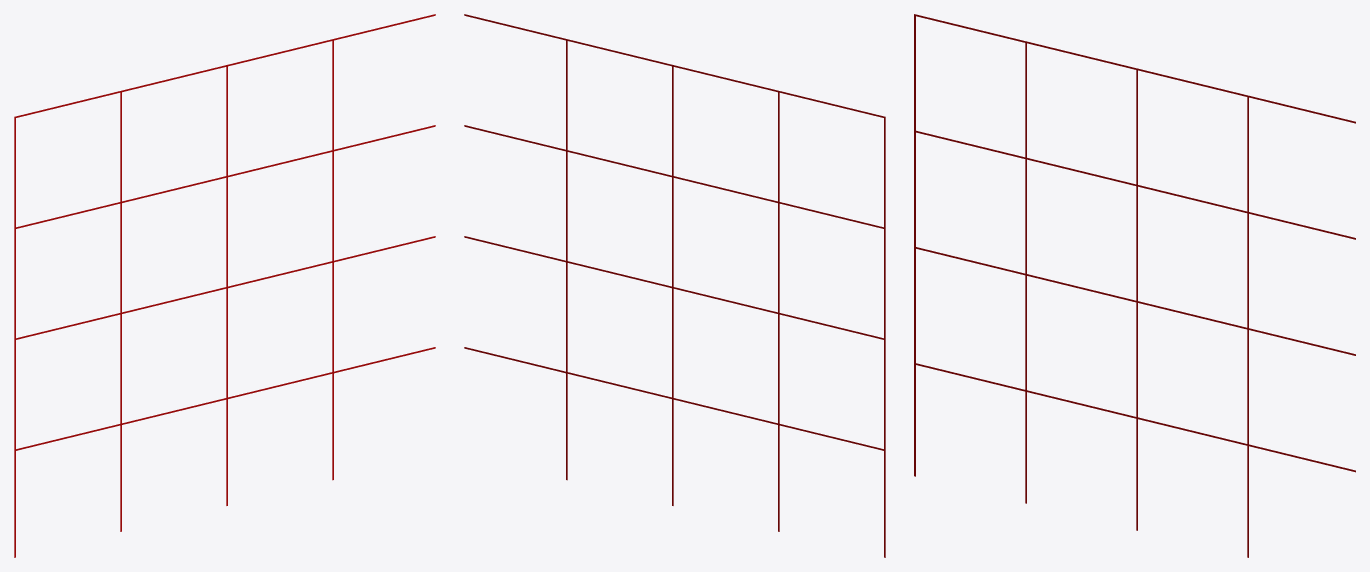
Rendered from GridPlaneFlat_02.fbx.
The picture shows the model from 3 angles, left to right: view 1: azimuth 30°, elevation 25°; view 2: azimuth 150°, elevation 25°; view 3: azimuth 330°, elevation 25°; orthographic projection. The views are drawn at different scales.
Parts seen in each view (by area): view 1: GridPlaneFlat_02; view 2: GridPlaneFlat_02; view 3: GridPlaneFlat_02.
Boxes of the visible parts, left/top/right/bottom form: GridPlaneFlat_02: left=14, top=14, right=435, bottom=557; GridPlaneFlat_02: left=464, top=14, right=885, bottom=557; GridPlaneFlat_02: left=914, top=14, right=1355, bottom=557.
Size of the model in its own units: 5000 by 5000 by 3.04e-13.
